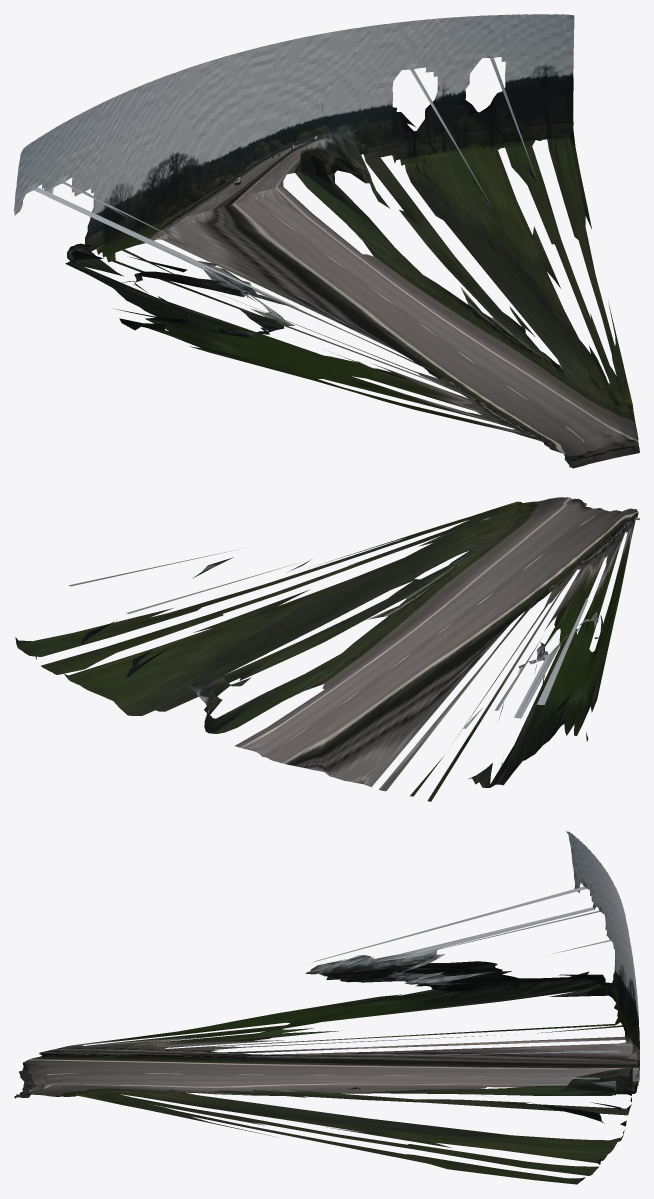
3 renders of one model, top to bottom at view 1: azimuth 30°, elevation 25°; view 2: azimuth 150°, elevation 25°; view 3: azimuth 270°, elevation 25°, orthographic. The views are drawn at different scales.
Visible parts, largest first — view 1: defaultobject; view 2: defaultobject; view 3: defaultobject.
Part boxes in pixels (x1=…): defaultobject: x1=14, y1=14, x2=639, y2=468; defaultobject: x1=15, y1=497, x2=639, y2=801; defaultobject: x1=14, y1=831, x2=639, y2=1184.
Size of the model in its own units: 41.06 by 12 by 44.66.
1 material, 1 textured.
